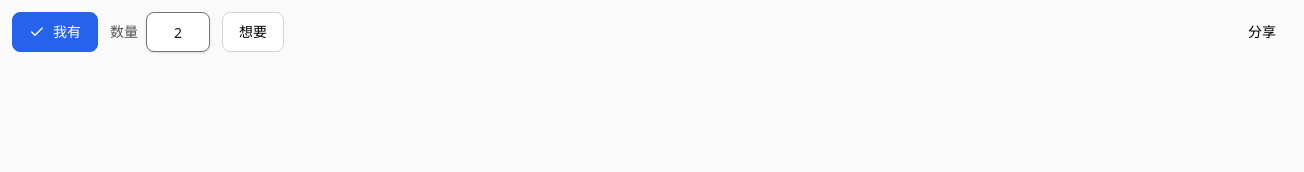
Test: card collection bar › clears both toggles when the server removes the row
Step 1. Click the button "我有" → click(55, 32), box [12,12,98,52]
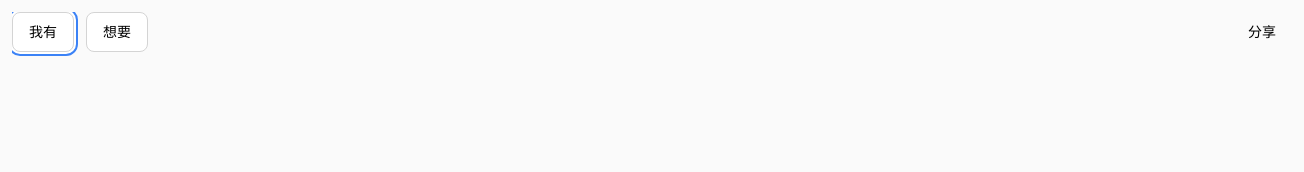
Now the label "数量" is gone
